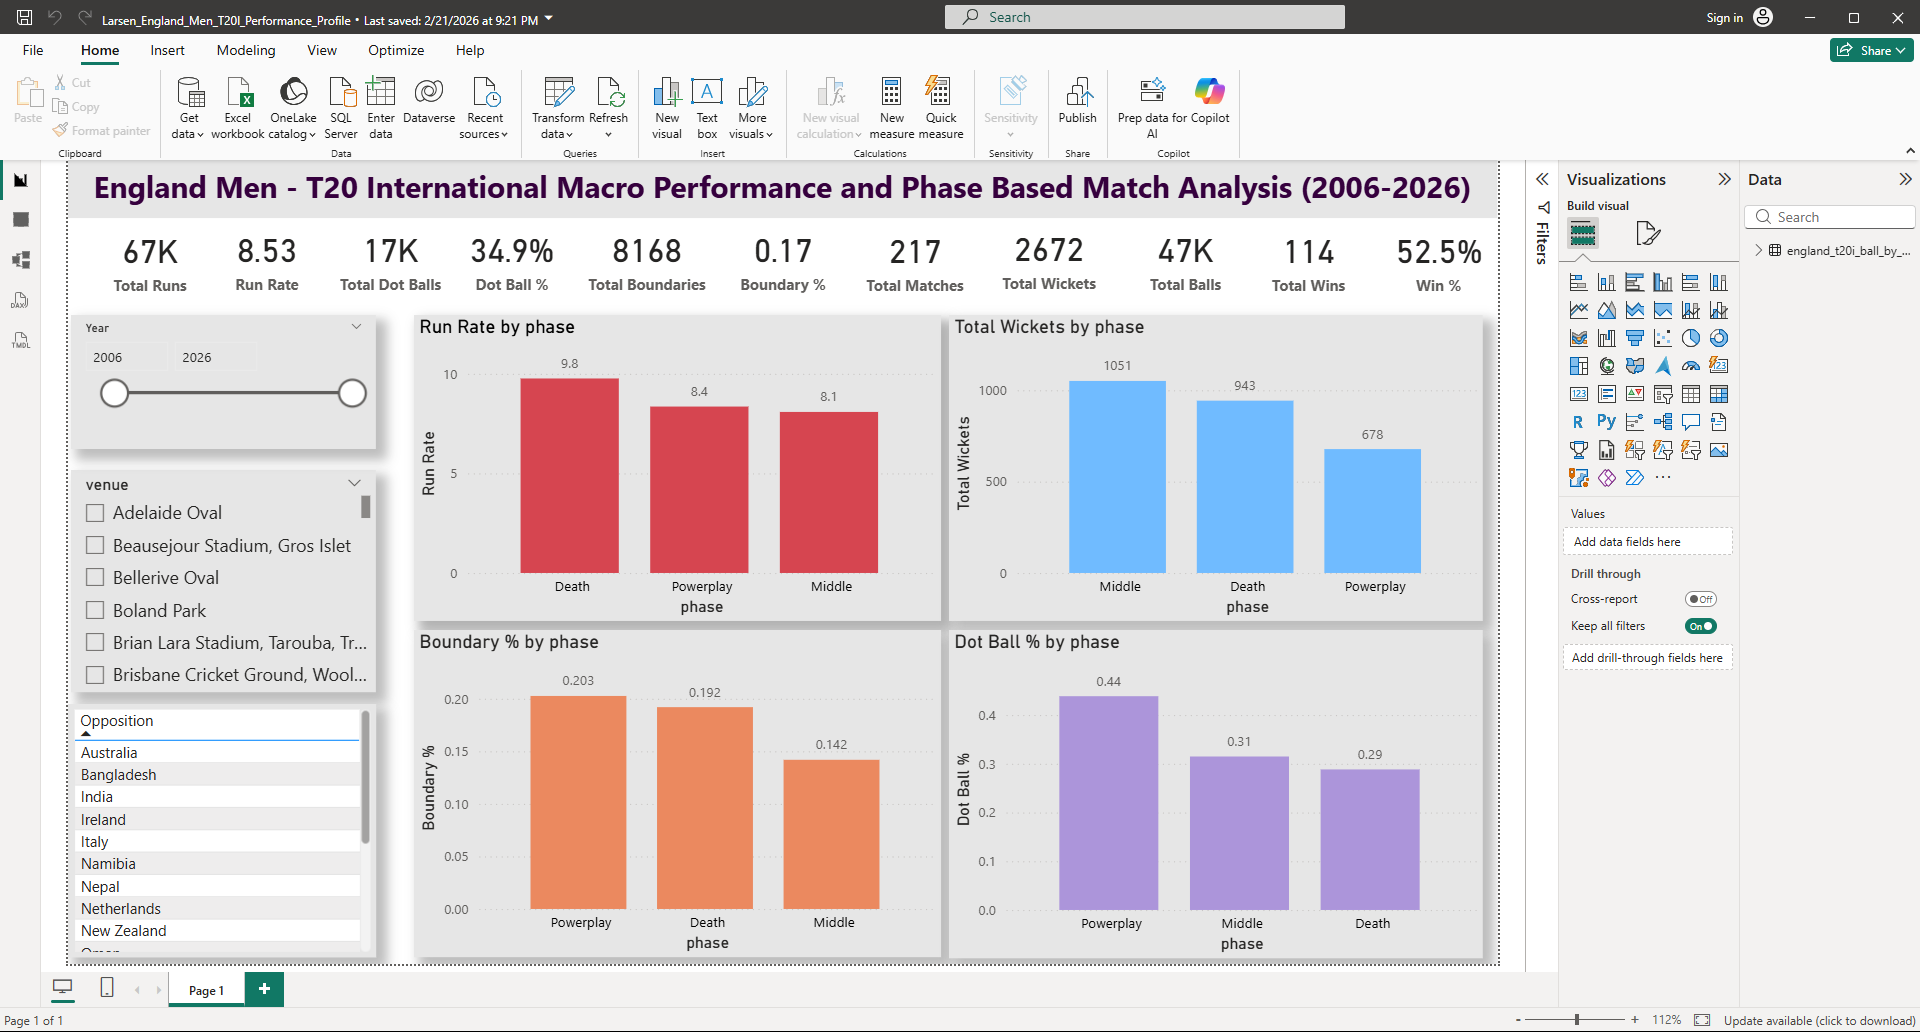

What the dashboard file says about the page in this screenshot:
{"tool":"powerbi","page":{"name":"Page 1","canvas":[1280,720],"ordinal":0},"visuals":[{"type":"card","fields":{"Values":["england_t20i_ball_by_ball_clean.Total Balls"]},"box":[943.9,51.9,113.7,71.6],"z":0},{"type":"card","fields":{"Values":["england_t20i_ball_by_ball_clean.Total Boundaries"]},"box":[459.4,51.9,118.2,71.6],"z":1000},{"type":"card","fields":{"Values":["england_t20i_ball_by_ball_clean.Total Dot Balls"]},"box":[231.9,51.9,113.7,71.6],"z":2000},{"type":"card","fields":{"Values":["england_t20i_ball_by_ball_clean.Total Runs"]},"box":[22.4,51.9,102.1,73.4],"z":3000},{"type":"card","fields":{"Values":["england_t20i_ball_by_ball_clean.Total Wickets"]},"box":[823.9,51.9,109.3,69.9],"z":4000},{"type":"card","fields":{"Values":["england_t20i_ball_by_ball_clean.Dot Ball %"]},"box":[345.7,51.9,103.9,71.6],"z":5000},{"type":"card","fields":{"Values":["england_t20i_ball_by_ball_clean.Boundary %"]},"box":[585.7,51.9,109.3,71.6],"z":6000},{"type":"slicer","fields":{"Values":["england_t20i_ball_by_ball_clean.venue"]},"box":[2.7,277.6,273.1,198.8],"z":7000},{"type":"clusteredColumnChart","fields":{"Category":["england_t20i_ball_by_ball_clean.phase"],"Y":["england_t20i_ball_by_ball_clean.Run Rate"]},"box":[309.9,138.8,471.9,274],"z":8000},{"type":"card","fields":{"Values":["england_t20i_ball_by_ball_clean.Run Rate"]},"box":[124.5,51.9,107.5,71.6],"z":9000},{"type":"clusteredColumnChart","fields":{"Category":["england_t20i_ball_by_ball_clean.phase"],"Y":["england_t20i_ball_by_ball_clean.Boundary %"]},"box":[309.9,420.9,471.9,292.8],"z":10000},{"type":"clusteredColumnChart","fields":{"Category":["england_t20i_ball_by_ball_clean.phase"],"Y":["england_t20i_ball_by_ball_clean.Total Wickets"]},"box":[789,138.8,478.2,274],"z":11000},{"type":"clusteredColumnChart","fields":{"Category":["england_t20i_ball_by_ball_clean.phase"],"Y":["england_t20i_ball_by_ball_clean.Dot Ball %"]},"box":[789,420.9,478.2,293.7],"z":12000},{"type":"tableEx","fields":{"Values":["england_t20i_ball_by_ball_clean.Opposition"]},"box":[0,487.2,275.8,226.6],"z":13000},{"type":"slicer","fields":{"Values":["england_t20i_ball_by_ball_clean.Year"]},"box":[2.7,138.8,273.1,120],"z":14000},{"type":"card","fields":{"Values":["england_t20i_ball_by_ball_clean.Total Matches"]},"box":[704.8,51.9,107.5,73.4],"z":15000},{"type":"card","fields":{"Values":["england_t20i_ball_by_ball_clean.Total Wins"]},"box":[1057.6,51.9,106.6,73.4],"z":16000},{"type":"card","fields":{"Values":["england_t20i_ball_by_ball_clean.Win %"]},"box":[1174.9,51.9,104.8,73.4],"z":17000},{"type":"textbox","box":[0,0,1279.7,51.9],"z":17001}]}

Visuals, with their boxes on the page's 1280x720 design canvas (x1, y1, x2, y2). These are canvas units, not pixel positions in the 1920x1032 screenshot, which may show the page scaled, cropped or inside an application window:
card - england_t20i_ball_by_ball_clean.Total Balls: bbox=[944, 52, 1058, 124]
card - england_t20i_ball_by_ball_clean.Total Boundaries: bbox=[459, 52, 578, 124]
card - england_t20i_ball_by_ball_clean.Total Dot Balls: bbox=[232, 52, 346, 124]
card - england_t20i_ball_by_ball_clean.Total Runs: bbox=[22, 52, 124, 125]
card - england_t20i_ball_by_ball_clean.Total Wickets: bbox=[824, 52, 933, 122]
card - england_t20i_ball_by_ball_clean.Dot Ball %: bbox=[346, 52, 450, 124]
card - england_t20i_ball_by_ball_clean.Boundary %: bbox=[586, 52, 695, 124]
slicer - england_t20i_ball_by_ball_clean.venue: bbox=[3, 278, 276, 476]
clusteredColumnChart - england_t20i_ball_by_ball_clean.phase x england_t20i_ball_by_ball_clean.Run Rate: bbox=[310, 139, 782, 413]
card - england_t20i_ball_by_ball_clean.Run Rate: bbox=[124, 52, 232, 124]
clusteredColumnChart - england_t20i_ball_by_ball_clean.phase x england_t20i_ball_by_ball_clean.Boundary %: bbox=[310, 421, 782, 714]
clusteredColumnChart - england_t20i_ball_by_ball_clean.phase x england_t20i_ball_by_ball_clean.Total Wickets: bbox=[789, 139, 1267, 413]
clusteredColumnChart - england_t20i_ball_by_ball_clean.phase x england_t20i_ball_by_ball_clean.Dot Ball %: bbox=[789, 421, 1267, 715]
tableEx - england_t20i_ball_by_ball_clean.Opposition: bbox=[0, 487, 276, 714]
slicer - england_t20i_ball_by_ball_clean.Year: bbox=[3, 139, 276, 259]
card - england_t20i_ball_by_ball_clean.Total Matches: bbox=[705, 52, 812, 125]
card - england_t20i_ball_by_ball_clean.Total Wins: bbox=[1058, 52, 1164, 125]
card - england_t20i_ball_by_ball_clean.Win %: bbox=[1175, 52, 1280, 125]
textbox: bbox=[0, 0, 1280, 52]
